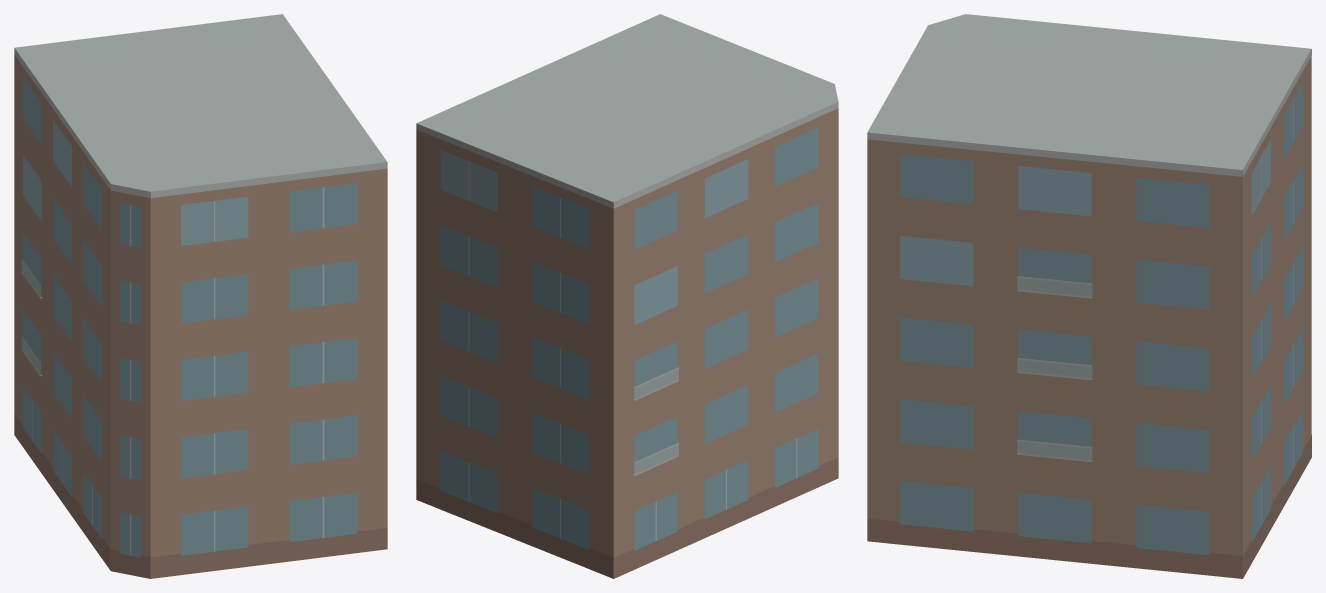
File: survey-upis-33015737.glb
3 views of the same model, side by side, from view 1: azimuth 30°, elevation 25°; view 2: azimuth 150°, elevation 25°; view 3: azimuth 270°, elevation 25° (orthographic). The views are drawn at different scales.
Parts seen in each view (by area): view 1: survey-upis-33015737.tmp; view 2: survey-upis-33015737.tmp; view 3: survey-upis-33015737.tmp.
Part boxes in pixels (<box>): survey-upis-33015737.tmp: <box>14,14,387,578</box>; survey-upis-33015737.tmp: <box>416,14,838,578</box>; survey-upis-33015737.tmp: <box>867,14,1311,578</box>.
Bounding box in the file's own units: 11.97 × 14.6 × 14.4.
